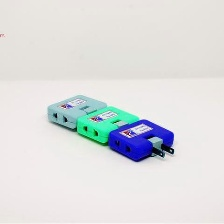three_eye_plug: (104, 114, 179, 166), (74, 102, 143, 149), (43, 90, 109, 134)
